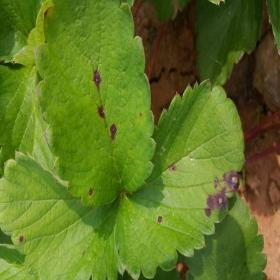Leaf Spot: (114, 78, 247, 279), (34, 0, 158, 208), (0, 149, 121, 279)
